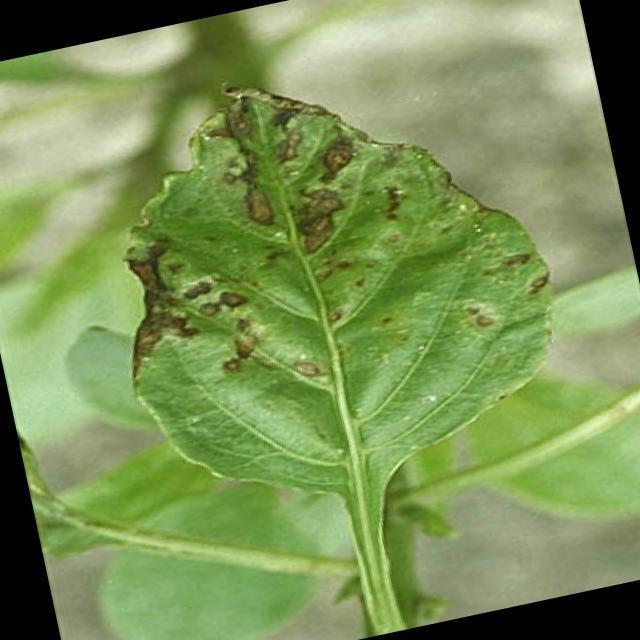Bacterial Spot: (117, 59, 561, 430)
